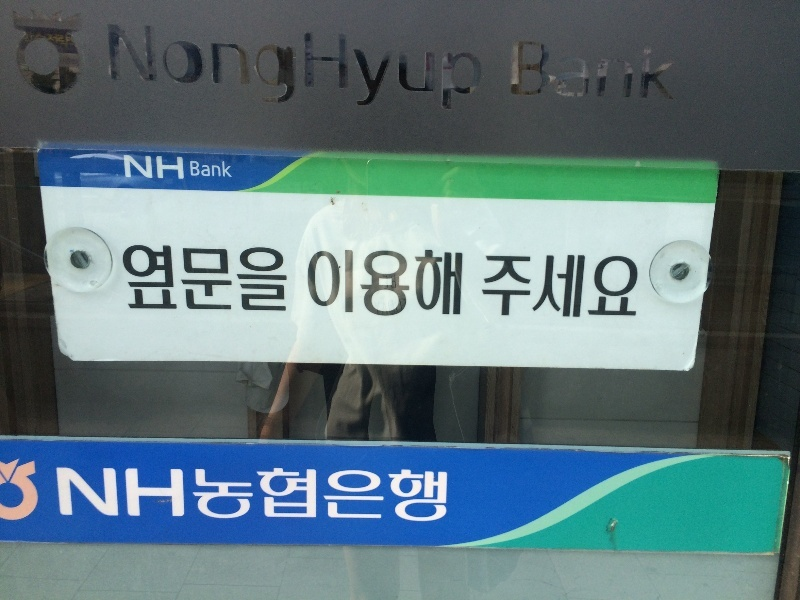text: (113, 25, 128, 115), (129, 25, 144, 115), (145, 25, 160, 115), (161, 25, 176, 115), (177, 25, 192, 115), (193, 25, 208, 115), (209, 25, 224, 115), (225, 25, 240, 115), (241, 25, 256, 115), (257, 25, 272, 115), (273, 25, 288, 115), (289, 25, 304, 115), (305, 25, 320, 115), (321, 25, 336, 115), (337, 25, 352, 115), (353, 25, 368, 115), (369, 25, 384, 115), (385, 25, 400, 115), (401, 25, 416, 115), (417, 25, 432, 115), (433, 25, 448, 115), (449, 25, 464, 115), (465, 25, 480, 115), (321, 246, 336, 318), (337, 246, 352, 318), (353, 246, 368, 318), (369, 246, 384, 318), (385, 246, 400, 318), (401, 246, 416, 318), (417, 246, 432, 318), (433, 246, 448, 318), (129, 244, 144, 312), (145, 244, 160, 312), (161, 244, 176, 312), (177, 244, 192, 312), (193, 244, 208, 312), (209, 244, 224, 312), (225, 244, 240, 312), (241, 244, 256, 312), (257, 244, 272, 312), (273, 244, 287, 312), (307, 246, 320, 318), (449, 246, 462, 318), (513, 40, 528, 102), (529, 40, 544, 102), (545, 40, 560, 102), (561, 40, 576, 102), (577, 40, 592, 102), (593, 40, 608, 102), (609, 40, 624, 102), (625, 40, 640, 102), (641, 40, 656, 102), (657, 40, 672, 102), (497, 257, 512, 319), (513, 257, 528, 319), (529, 257, 544, 319), (545, 257, 560, 319), (561, 257, 576, 319), (577, 257, 592, 319), (593, 257, 608, 319), (609, 257, 624, 319), (625, 257, 639, 319), (193, 470, 208, 524), (209, 470, 224, 524), (225, 470, 240, 524), (241, 470, 256, 524), (257, 470, 272, 524), (273, 470, 288, 524), (289, 470, 304, 524), (305, 470, 320, 524), (321, 470, 336, 524), (337, 470, 352, 524), (353, 470, 368, 524), (369, 470, 384, 524), (385, 470, 400, 524), (401, 470, 416, 524), (417, 470, 432, 524), (433, 470, 448, 524), (65, 467, 80, 518), (81, 467, 96, 518), (97, 467, 112, 518), (113, 467, 128, 518), (129, 467, 144, 518), (145, 467, 160, 518), (161, 467, 176, 518), (484, 257, 496, 319), (481, 25, 489, 115), (121, 244, 128, 312), (56, 467, 64, 518), (129, 155, 144, 181), (145, 155, 160, 181), (161, 155, 176, 181), (673, 40, 679, 102), (177, 467, 184, 518), (193, 161, 208, 180), (209, 161, 224, 180), (109, 25, 112, 115), (177, 155, 184, 181), (33, 32, 48, 44), (49, 32, 64, 44), (225, 161, 233, 180), (20, 32, 32, 44), (65, 32, 75, 44), (124, 155, 128, 181), (190, 161, 192, 180)
